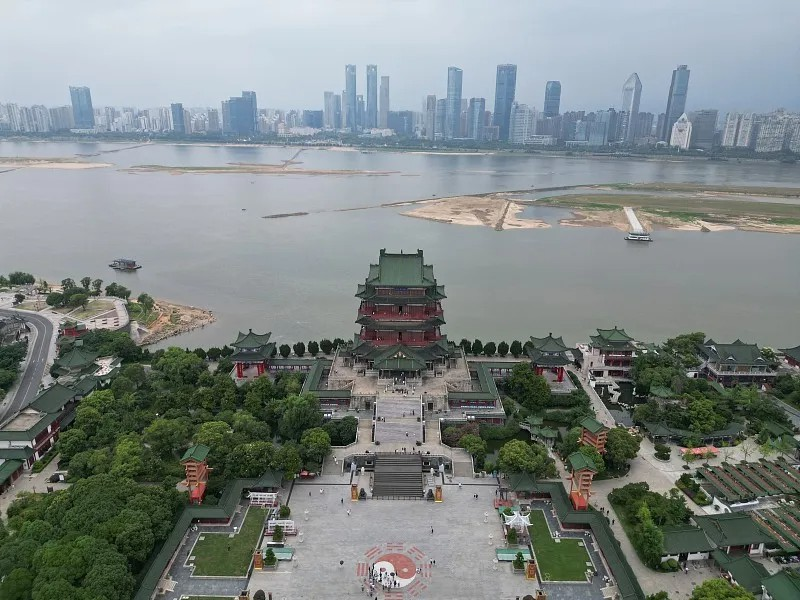Teng: (339, 247, 463, 377)
